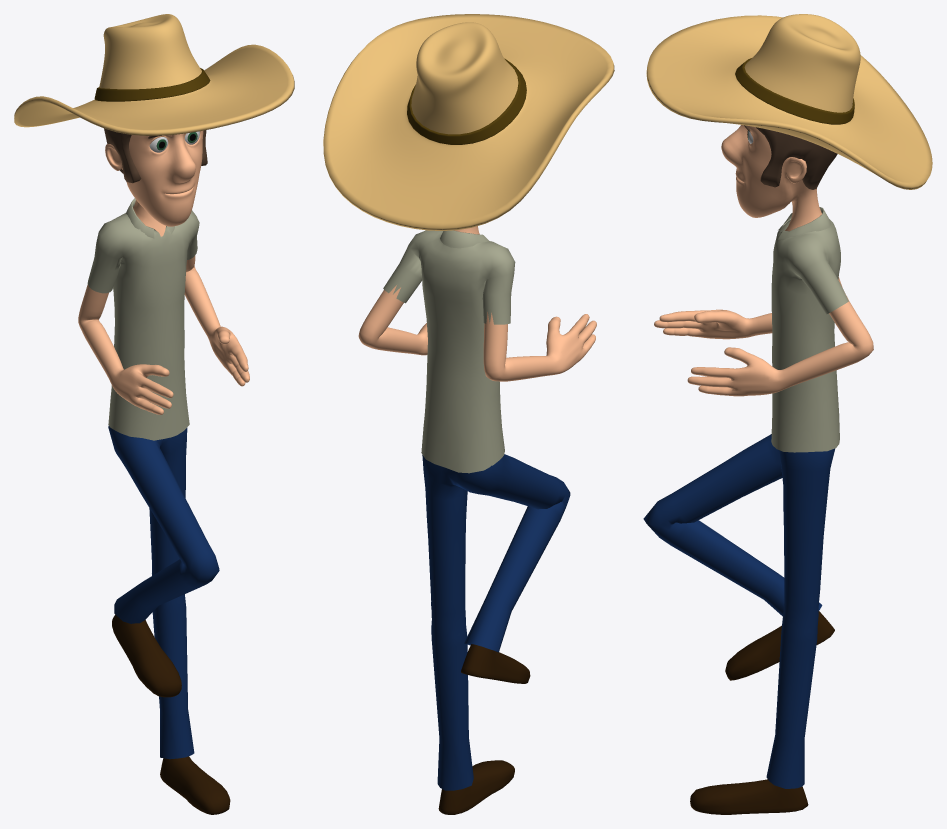
File: GuyRun10.obj
3 renders of one model, left to right at view 1: azimuth 30°, elevation 25°; view 2: azimuth 150°, elevation 25°; view 3: azimuth 270°, elevation 25°, orthographic. The views are drawn at different scales.
Bounding box in the file's own units: 2.18 × 7.29 × 2.46.
